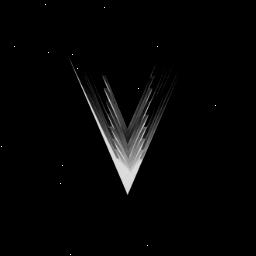v: (56, 30, 204, 194)
